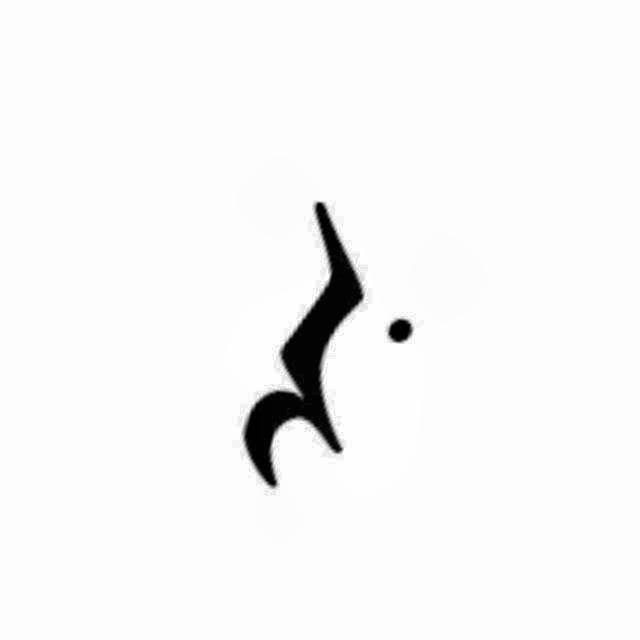Quarter-rest: (219, 190, 433, 498)
